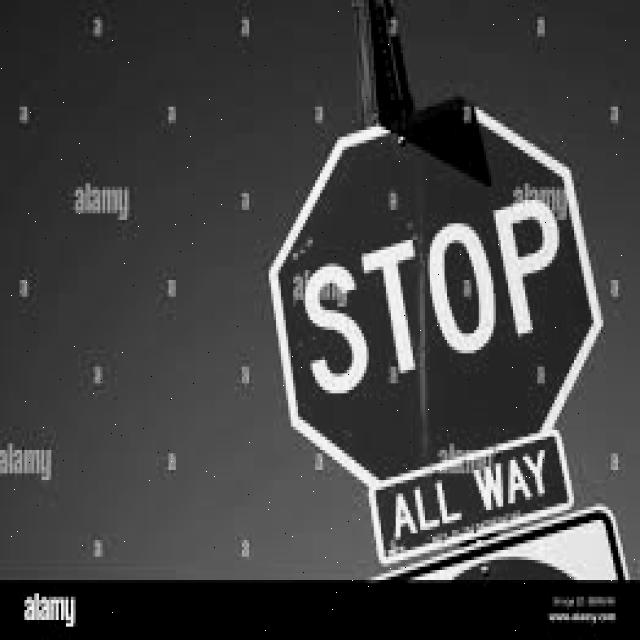stop sign: (269, 112, 604, 562)
